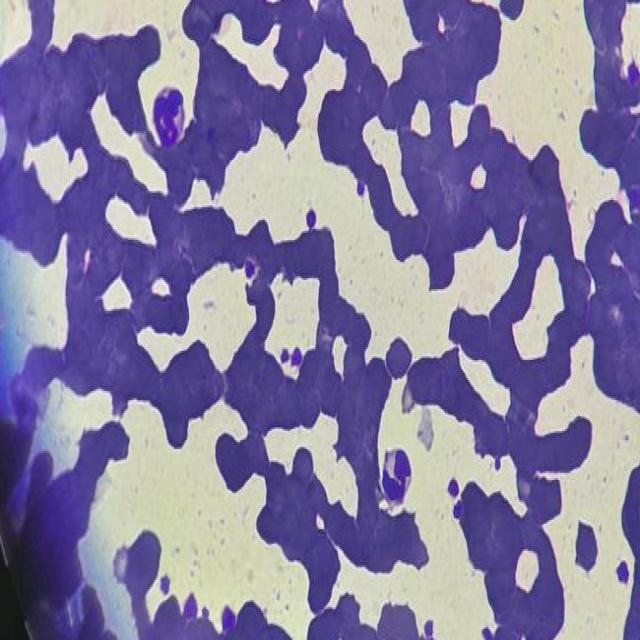Neutrofilo: (152, 81, 188, 147), (381, 450, 413, 508)
